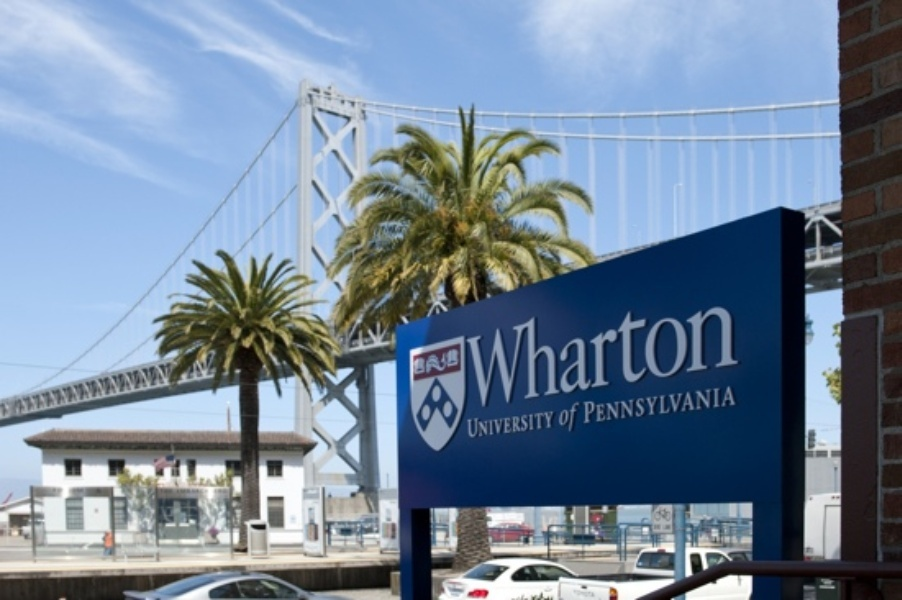text: (465, 282, 480, 409), (481, 282, 496, 409), (497, 282, 512, 409), (513, 282, 528, 409), (529, 282, 544, 409), (545, 282, 560, 409), (561, 282, 576, 409), (577, 282, 592, 409), (593, 282, 608, 409), (609, 282, 624, 409), (625, 282, 640, 409), (641, 282, 656, 409), (657, 282, 672, 409), (673, 282, 688, 409), (689, 282, 704, 409), (705, 282, 720, 409), (721, 282, 736, 409), (721, 382, 737, 425), (593, 382, 608, 425), (609, 382, 624, 425), (625, 382, 640, 425), (641, 382, 656, 425), (657, 382, 672, 425), (673, 382, 688, 425), (689, 382, 704, 425), (705, 382, 720, 425), (561, 399, 576, 433), (481, 407, 496, 440), (497, 407, 512, 440), (513, 407, 528, 440), (529, 407, 544, 440), (466, 407, 480, 440), (583, 382, 592, 425), (545, 407, 555, 440), (737, 282, 739, 409), (577, 399, 581, 433)
